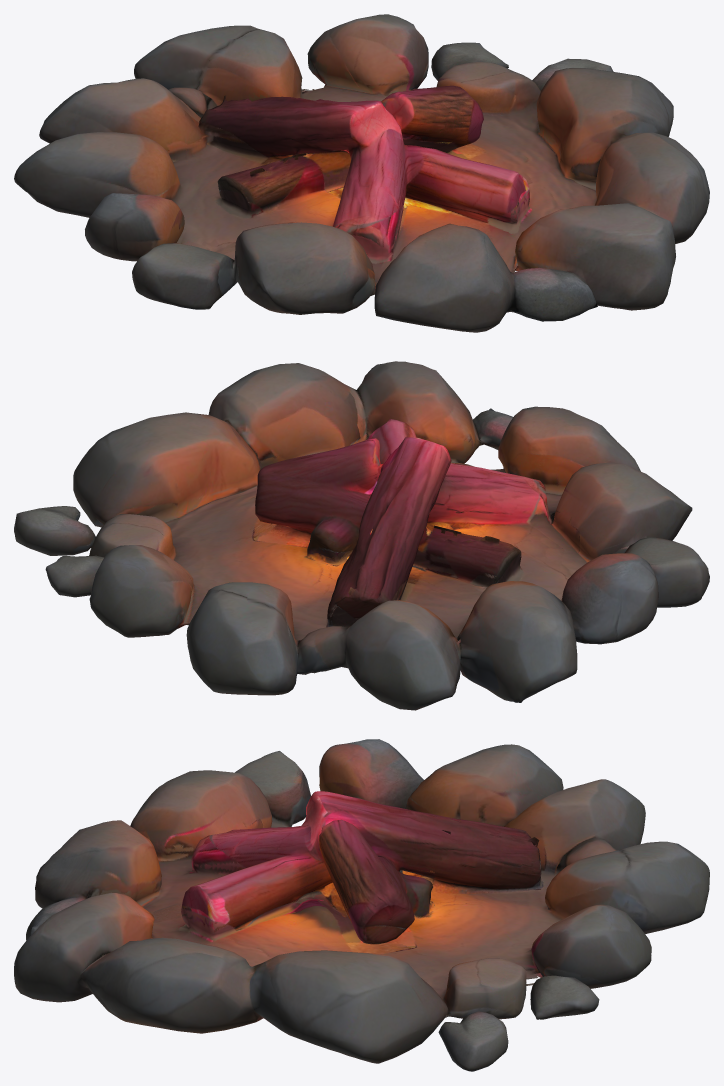
File: Campfire_Art_0512162023_texture.glb
3 renders of one model, top to bottom at view 1: azimuth 30°, elevation 25°; view 2: azimuth 150°, elevation 25°; view 3: azimuth 270°, elevation 25°, orthographic. The views are drawn at different scales.
Size of the model in its own units: 1.92 by 0.418 by 1.98.
Materials: 1 (1 with a texture image).
